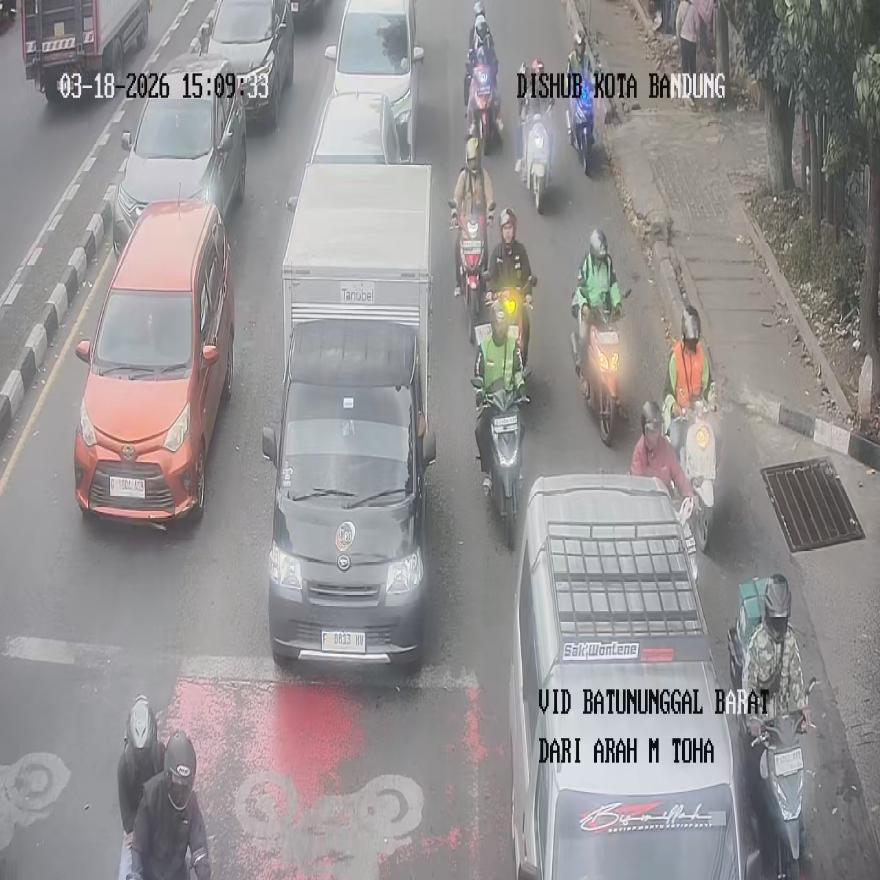Mobil: (507, 474, 747, 878), (261, 165, 436, 667), (74, 199, 234, 526), (112, 53, 247, 254), (324, 0, 423, 161), (287, 90, 403, 210), (20, 0, 152, 101), (205, 0, 293, 128)
Motor: (746, 676, 817, 880), (473, 379, 529, 550), (117, 694, 164, 878), (572, 291, 626, 445), (667, 402, 718, 551), (452, 204, 490, 345), (486, 270, 535, 378), (523, 102, 554, 212), (466, 59, 501, 155), (568, 76, 594, 176)
